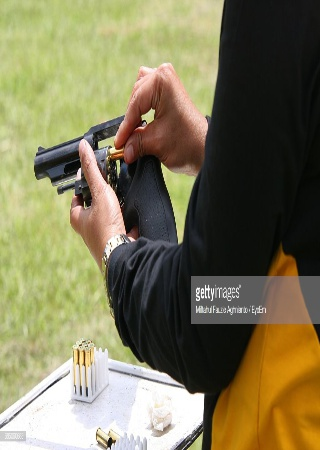handgun: (29, 93, 181, 246)
